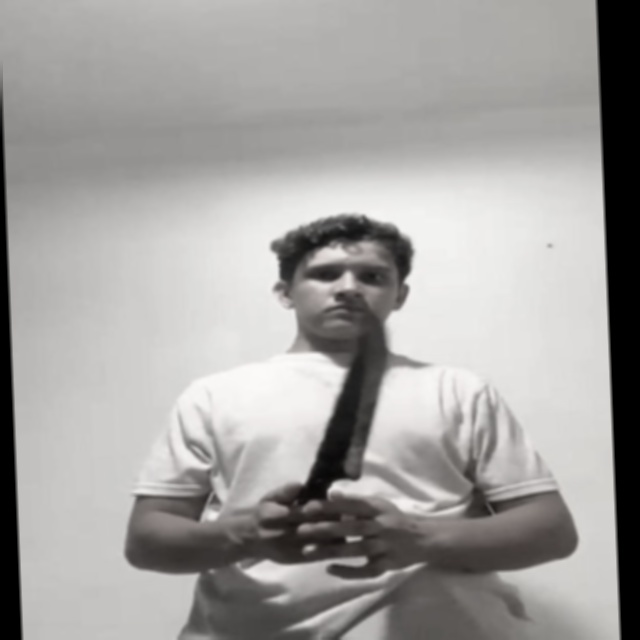Sharp-Object: (316, 311, 396, 485)
